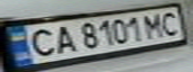0: (112, 16, 130, 44)
1: (93, 17, 115, 47), (124, 15, 145, 42)
8: (75, 20, 100, 51)
A: (48, 24, 78, 55)
C: (21, 26, 60, 59), (157, 8, 184, 36)
M: (139, 10, 169, 39)
